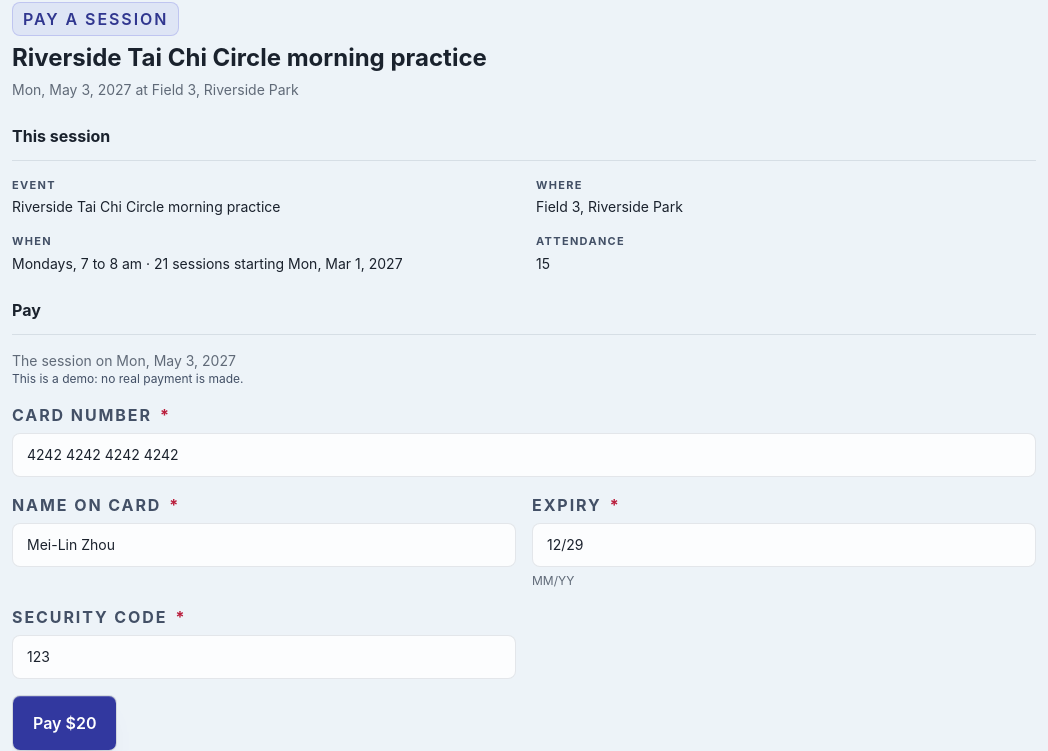
Test: CheckoutScreen: the moment after paying, before the next page arrives › a session: says it is paid, with the way back to the board
(page scrolled)
Click the button "Pay $20" at {"x": 65, "y": 723}, box [12,695,118,750]
(page scrolled)
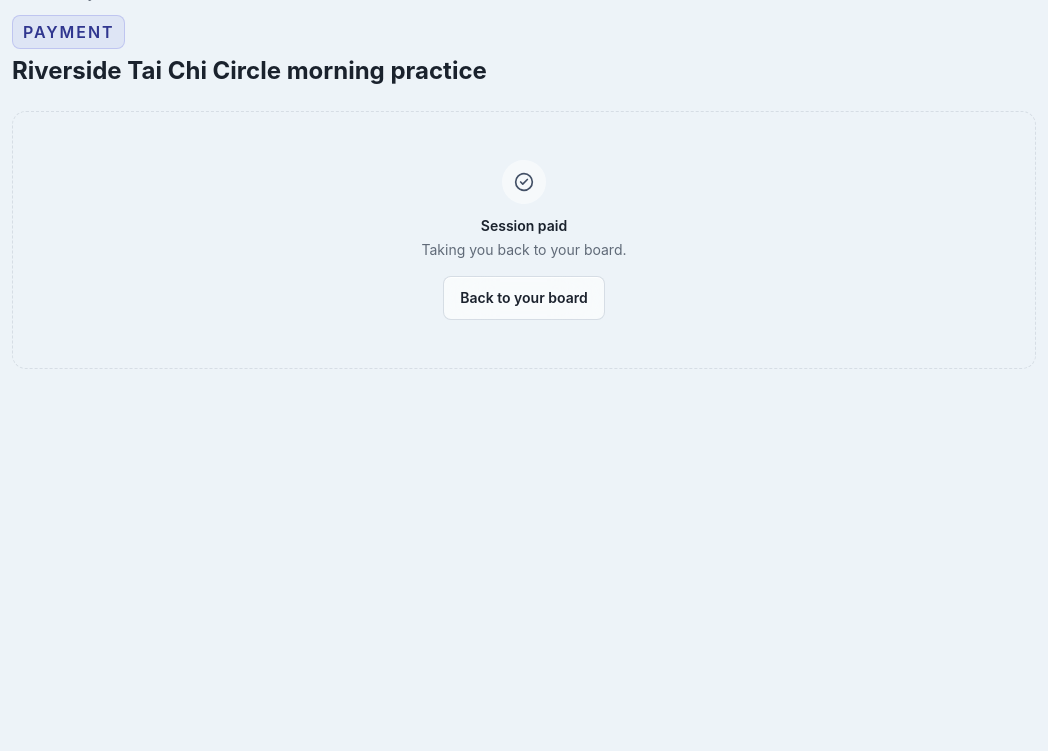
Now the text "Session paid" is shown, box [481,217,567,234]
